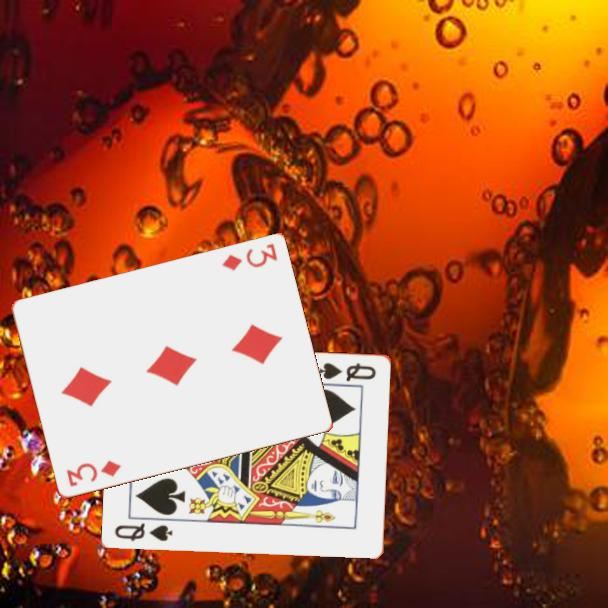d03: (218, 240, 280, 274), (63, 457, 124, 490)
s12: (112, 519, 176, 544), (316, 359, 379, 384)
